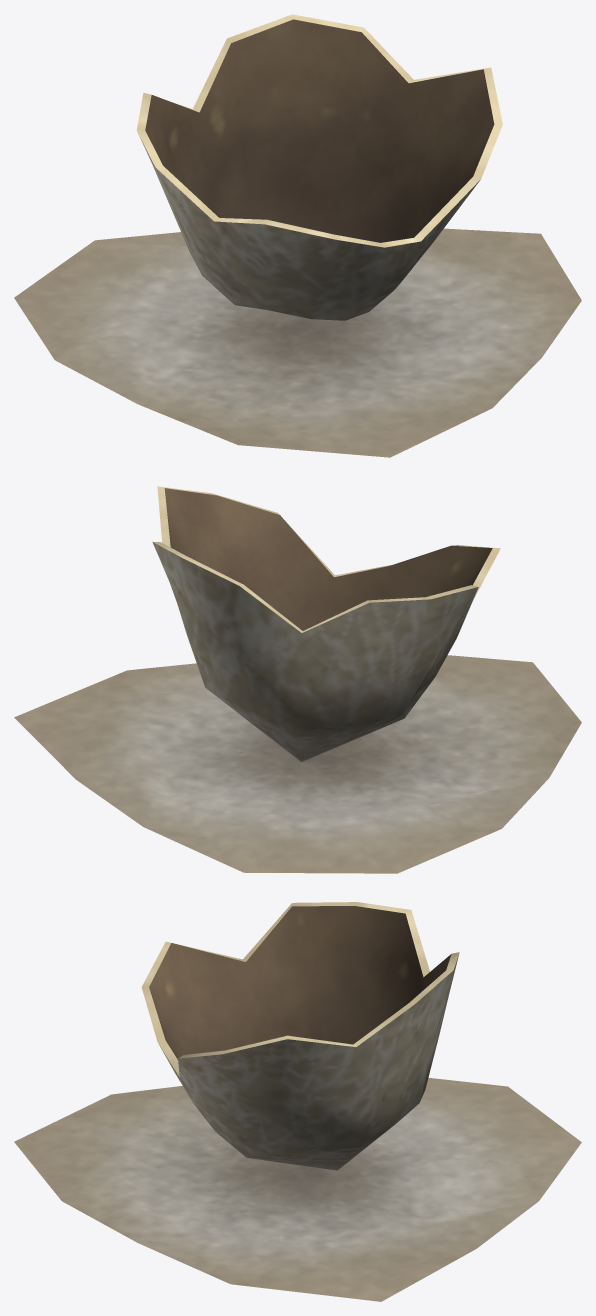
The model's file is SpiderEgg_Hatched.fbx.
3 views of the same model, one above another, from view 1: azimuth 30°, elevation 25°; view 2: azimuth 150°, elevation 25°; view 3: azimuth 270°, elevation 25° (orthographic). The views are drawn at different scales.
Visible parts, largest first — view 1: SpiderEgg_Hatched; view 2: SpiderEgg_Hatched; view 3: SpiderEgg_Hatched.
Boxes of the visible parts, box(x1,y1,x2,y2) form: SpiderEgg_Hatched: box(14, 14, 581, 457); SpiderEgg_Hatched: box(14, 486, 581, 873); SpiderEgg_Hatched: box(14, 902, 581, 1301).
Bounding box in the file's own units: 0.5928 × 0.2841 × 0.6159.
